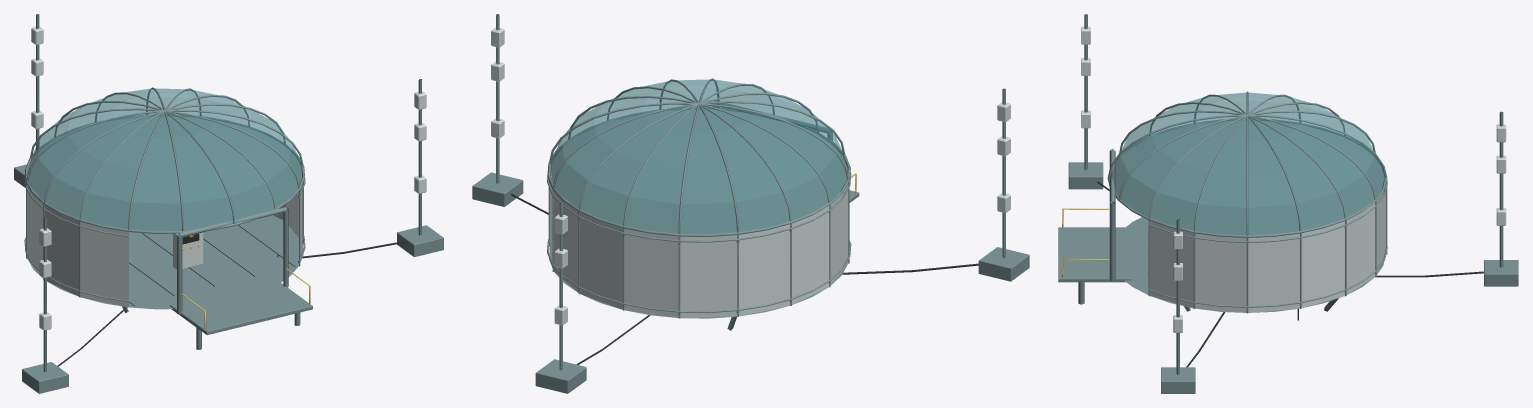
The model's file is pelagic_observatory.glb.
3 renders of one model, left to right at view 1: azimuth 30°, elevation 25°; view 2: azimuth 150°, elevation 25°; view 3: azimuth 270°, elevation 25°, orthographic. The views are drawn at different scales.
Parts seen in each view (by area): view 1: Observatory frame, Observatory dome glazing, Observatory enamel, Observatory seals; view 2: Observatory frame, Observatory dome glazing, Observatory enamel, Observatory seals; view 3: Observatory frame, Observatory dome glazing, Observatory enamel, Observatory seals.
Boxes of the visible parts, box(x1,y1,x2,y2) form: Observatory frame: box(14, 14, 443, 393); Observatory dome glazing: box(28, 88, 301, 230); Observatory enamel: box(27, 26, 426, 330); Observatory seals: box(57, 225, 403, 366); Observatory frame: box(472, 14, 1029, 393); Observatory dome glazing: box(550, 79, 847, 233); Observatory enamel: box(491, 27, 1010, 325); Observatory seals: box(511, 193, 978, 364); Observatory frame: box(1058, 14, 1518, 393); Observatory dome glazing: box(1110, 92, 1384, 234); Observatory enamel: box(1081, 26, 1506, 332); Observatory seals: box(1097, 181, 1483, 367).
Size of what is drawn, in the model's own units: 22.5 by 8 by 19.95.
